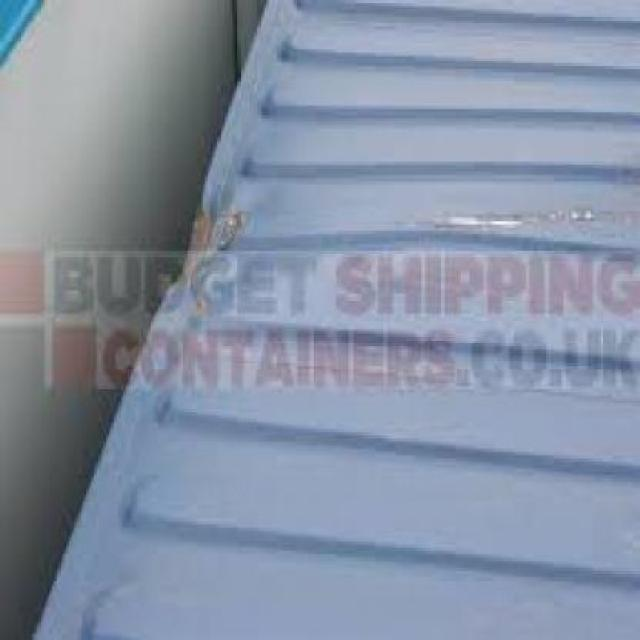dent: (158, 206, 258, 321), (434, 207, 597, 227)
